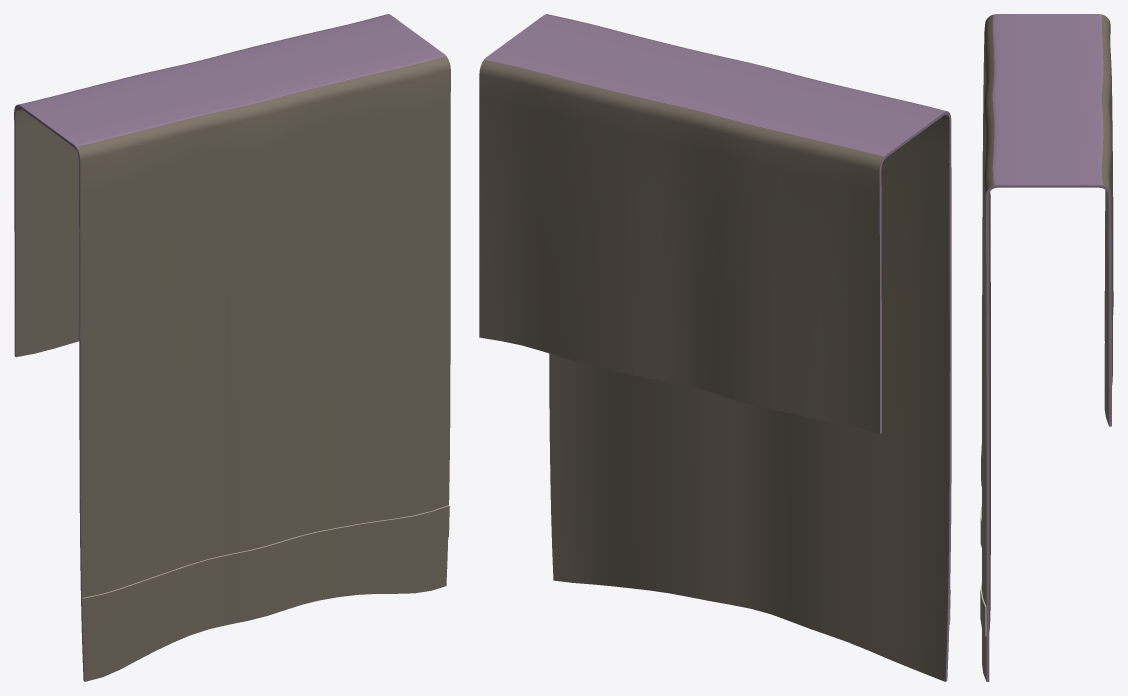
Rendered from towel-draped-mint-7d3661b4cb37.glb.
3 views of the same model, side by side, from view 1: azimuth 30°, elevation 25°; view 2: azimuth 150°, elevation 25°; view 3: azimuth 270°, elevation 25° (orthographic). The views are drawn at different scales.
Parts seen in each view (by area): view 1: cover-cloth, cloth-lilac; view 2: cover-cloth, cloth-lilac; view 3: cloth-lilac, cover-cloth.
Boxes of the visible parts, box(x1,y1,x2,y2) form: cover-cloth: box(15, 14, 450, 681); cloth-lilac: box(14, 14, 445, 681); cover-cloth: box(479, 14, 949, 681); cloth-lilac: box(484, 14, 951, 681); cloth-lilac: box(985, 14, 1111, 681); cover-cloth: box(980, 14, 1113, 681).
Size of the model in its own units: 0.36 by 0.494 by 0.118.
